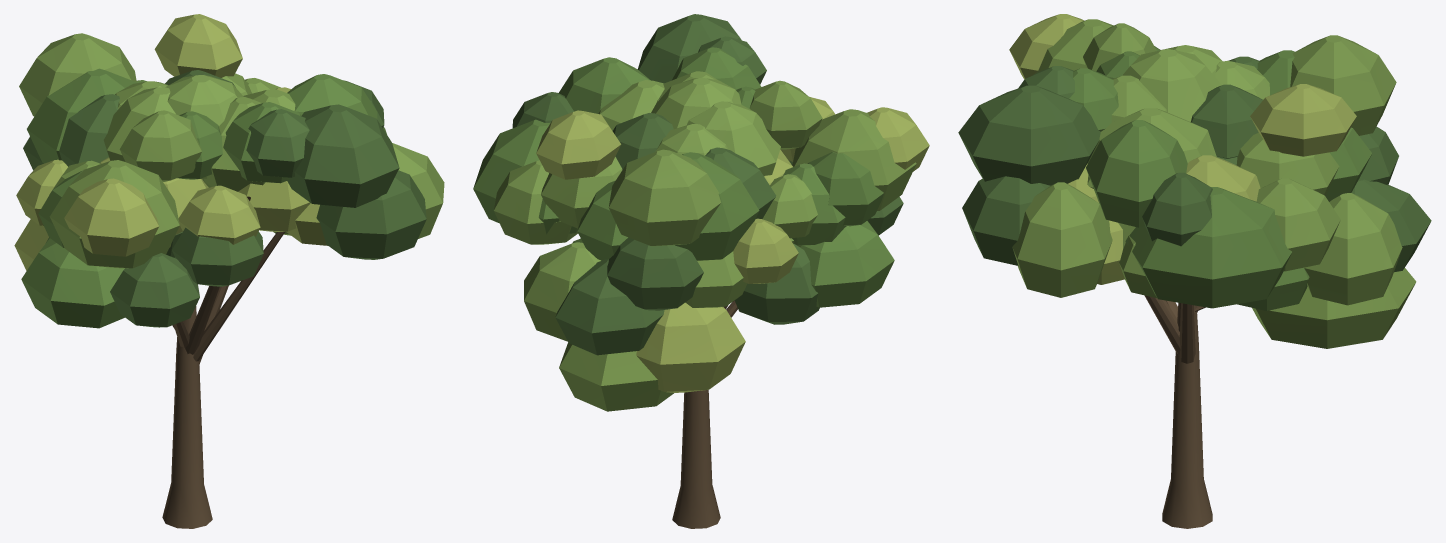
Rendered from upright-tree.glb.
3 views of the same model, side by side, from view 1: azimuth 30°, elevation 25°; view 2: azimuth 150°, elevation 25°; view 3: azimuth 270°, elevation 25° (orthographic). The views are drawn at different scales.
Parts seen in each view (by area): view 1: Upright park tree · Oak deep, Upright park tree · Oak light, Upright park tree · Oak tips, Upright park tree · Oak green, Upright park tree · Bark; view 2: Upright park tree · Oak light, Upright park tree · Oak green, Upright park tree · Oak deep, Upright park tree · Oak tips, Upright park tree · Bark; view 3: Upright park tree · Oak light, Upright park tree · Oak deep, Upright park tree · Oak green, Upright park tree · Oak tips, Upright park tree · Bark.
Part boxes in pixels (box(x1,y1,x2,y2)): Upright park tree · Oak deep: box(23, 70, 426, 327); Upright park tree · Oak light: box(19, 33, 444, 268); Upright park tree · Oak tips: box(14, 14, 327, 270); Upright park tree · Oak green: box(21, 68, 386, 328); Upright park tree · Bark: box(162, 196, 284, 528); Upright park tree · Oak light: box(494, 71, 916, 411); Upright park tree · Oak green: box(473, 47, 894, 307); Upright park tree · Oak deep: box(512, 14, 903, 355); Upright park tree · Oak tips: box(536, 96, 929, 392); Upright park tree · Bark: box(672, 300, 737, 528); Upright park tree · Oak light: box(1012, 19, 1416, 348); Upright park tree · Oak deep: box(958, 56, 1431, 272); Upright park tree · Oak green: box(1069, 46, 1372, 310); Upright park tree · Oak tips: box(1009, 14, 1356, 284); Upright park tree · Bark: box(1144, 295, 1212, 528).
Bounding box in the file's own units: 3.29 × 3.69 × 3.39.
